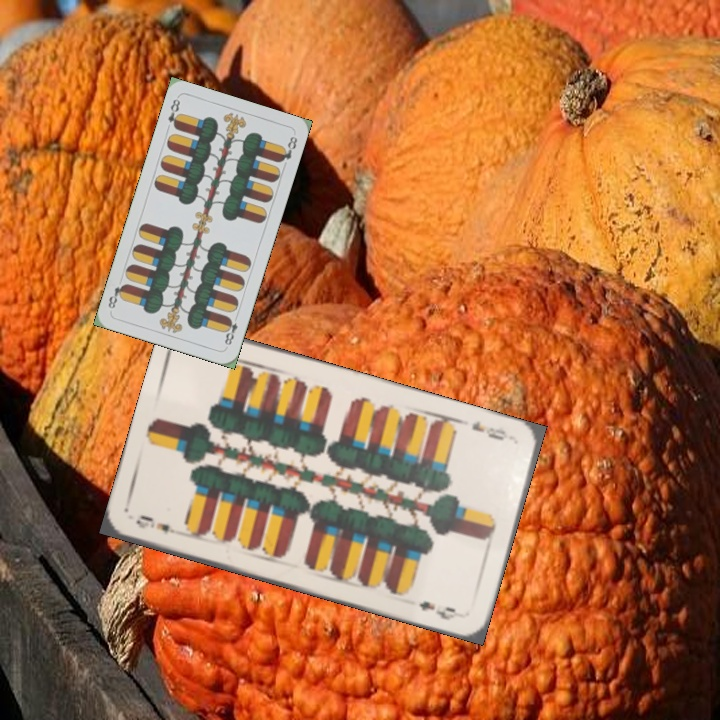E8: (220, 310, 241, 348), (164, 95, 183, 132)
E9: (132, 511, 186, 538), (467, 416, 511, 443)
